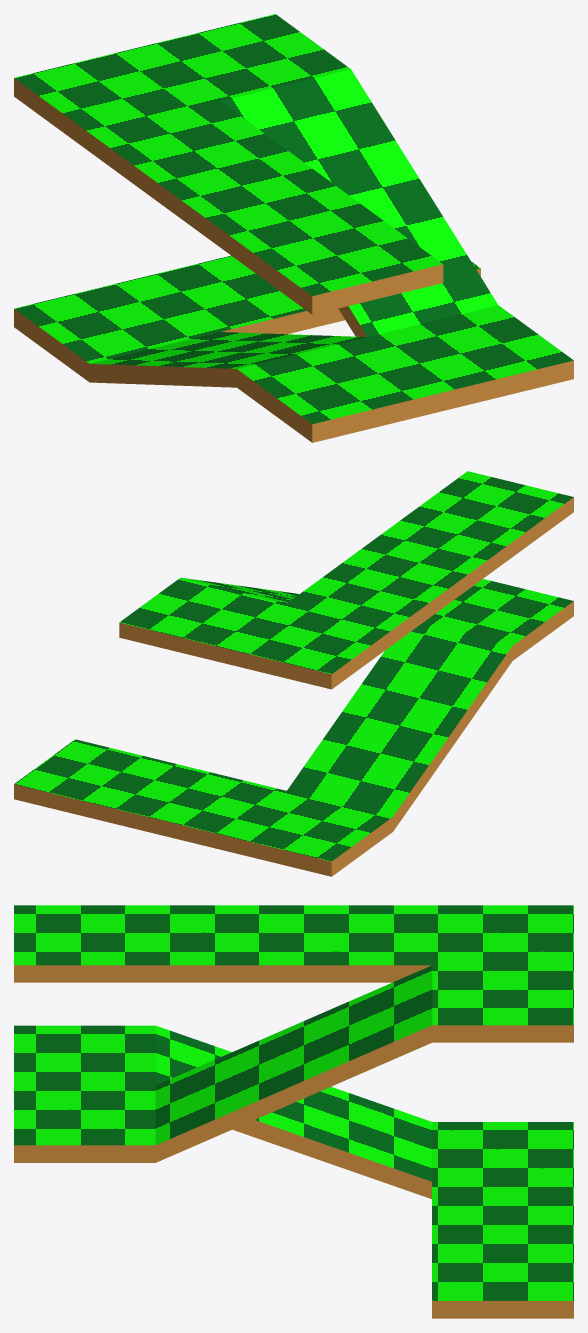
The picture shows the model from 3 angles, top to bottom: view 1: azimuth 30°, elevation 25°; view 2: azimuth 150°, elevation 25°; view 3: azimuth 270°, elevation 25°; orthographic projection. The views are drawn at different scales.
Visible parts, largest first — view 1: Cube; view 2: Cube; view 3: Cube.
Part boxes in pixels (box(x1,y1,x2,y2)): Cube: box(14, 14, 573, 442); Cube: box(14, 471, 573, 876); Cube: box(14, 905, 573, 1318).
Bounding box in the file's own units: 35.91 × 21.87 × 47.41.
2 materials, 2 textured.
